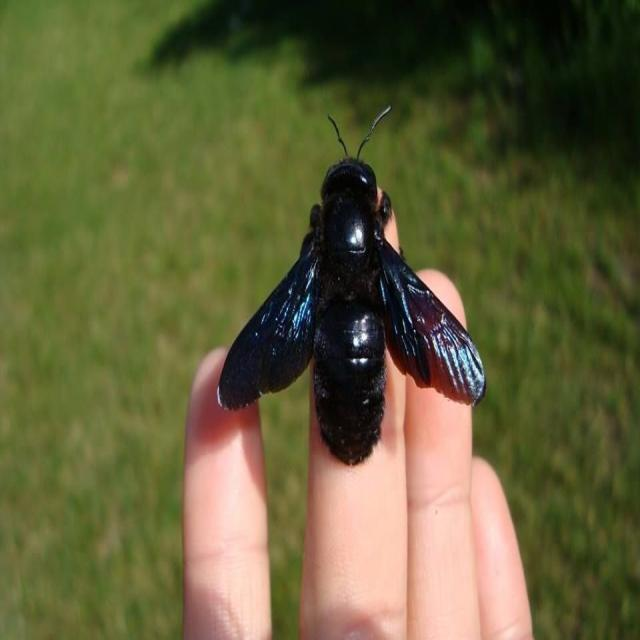Xylocopa: (215, 115, 492, 478)
